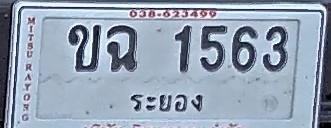1: (174, 24, 191, 72)
3: (262, 26, 288, 72)
5: (200, 24, 227, 72)
6: (232, 26, 257, 72)
A02: (68, 24, 100, 71)
A09: (107, 25, 137, 71)
RYG: (123, 88, 208, 117)
